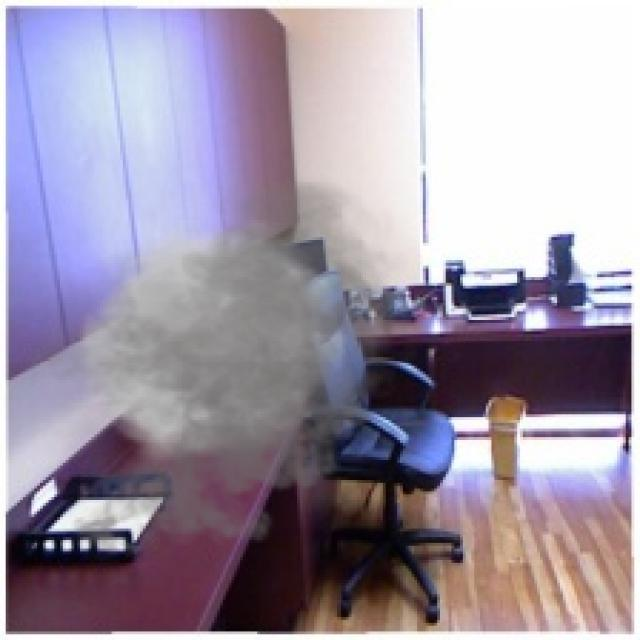Smoke: (3, 162, 426, 568)
